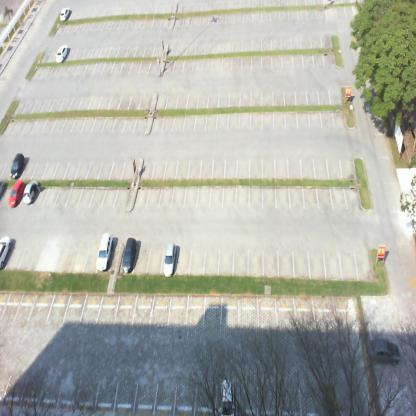car: (369, 335, 400, 366), (95, 232, 114, 272), (121, 234, 139, 274), (8, 176, 25, 209), (220, 376, 234, 416), (162, 240, 177, 277), (0, 233, 13, 271), (22, 179, 40, 205), (10, 149, 26, 178), (54, 42, 70, 64), (58, 6, 70, 23)
